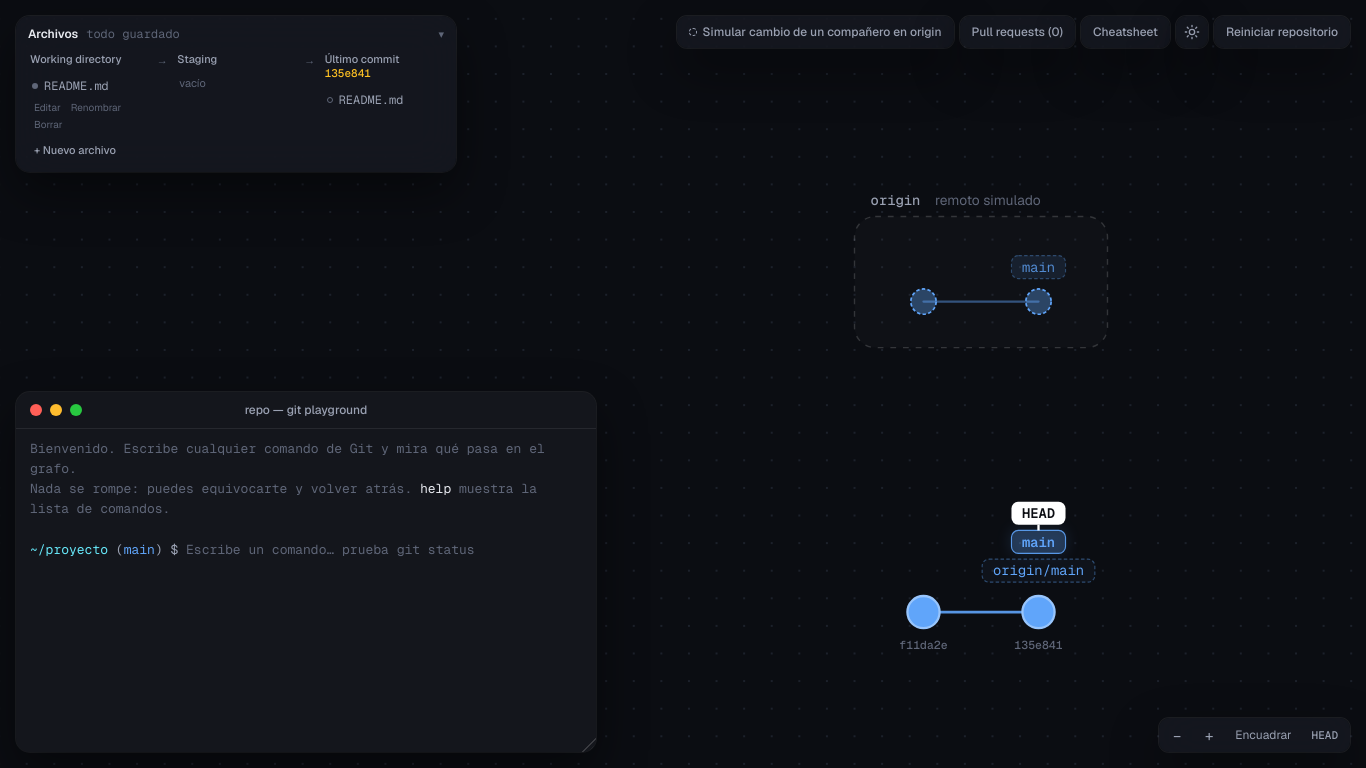
Test: PlaygroundShell cheatsheet panel › filters the command list with the search field
This screenshot has width=1366, height=768.
Click the button "Cheatsheet" at x=1125, y=32, box [1081,16,1170,48]
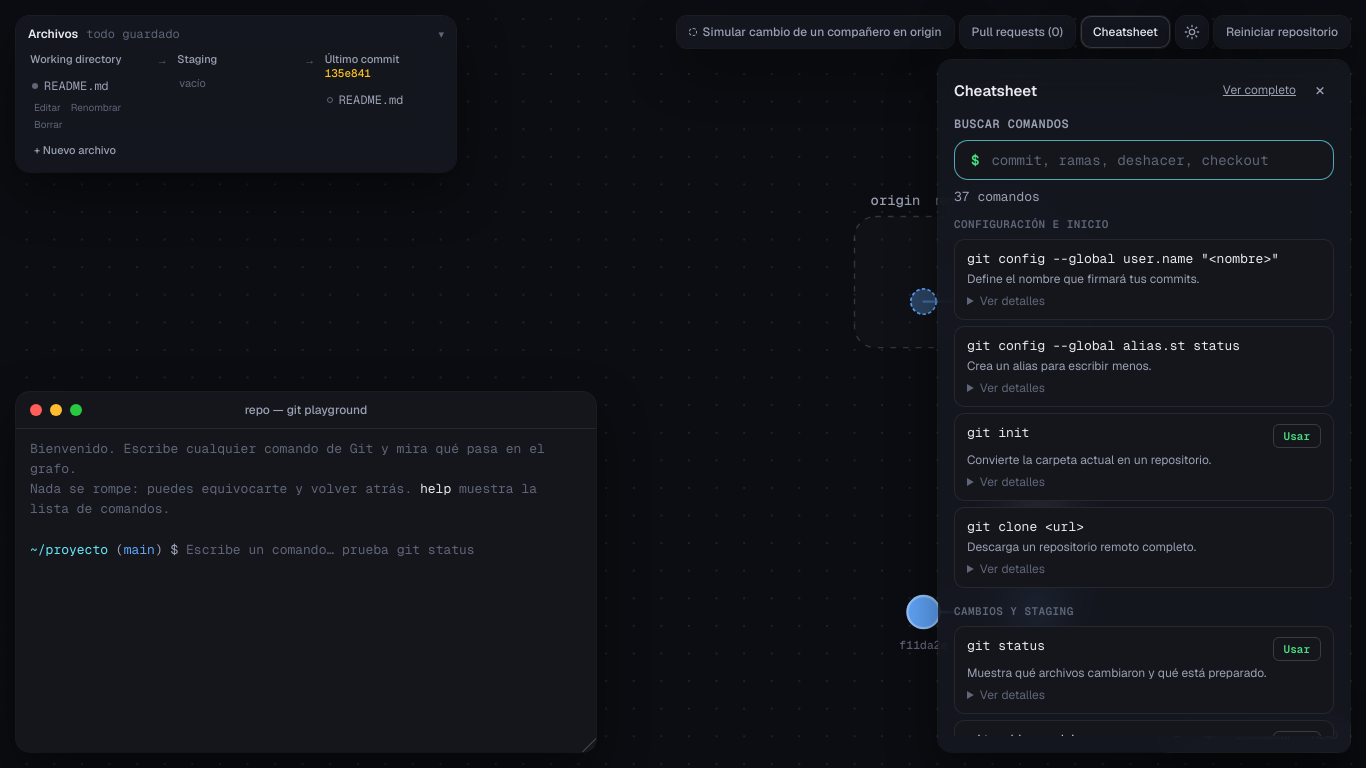
Now the text "git init" is shown, box [967,424,1029,441]
Type "stash" into the search field at x=1140, y=160, box [983,141,1296,179]
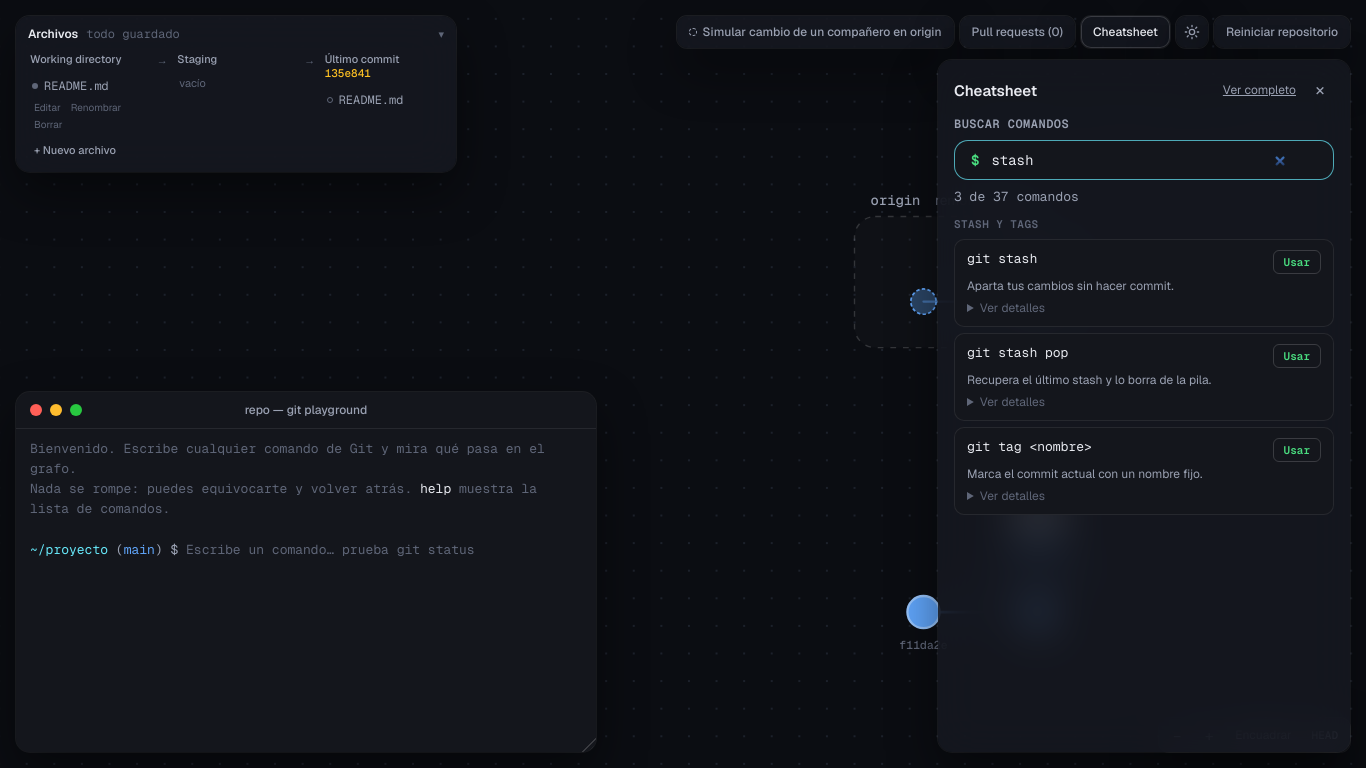
Now the text "git stash pop" is shown, box [967,344,1068,361]
Now the text "git init" is gone
